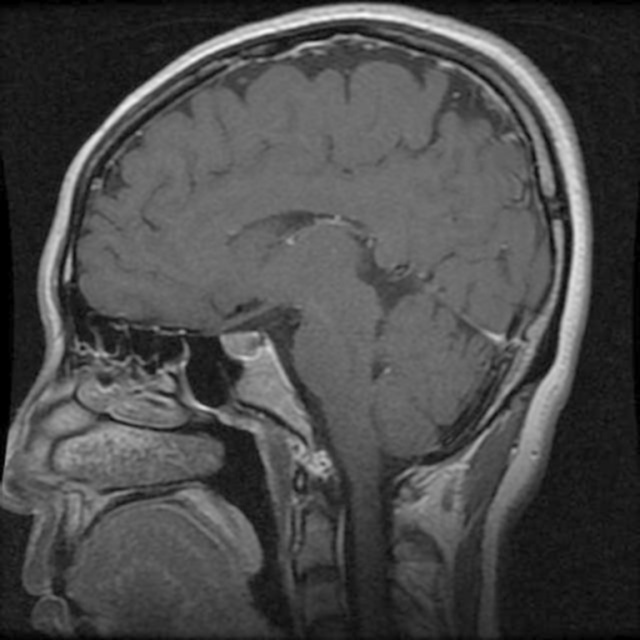no tumor: (214, 320, 274, 371)
